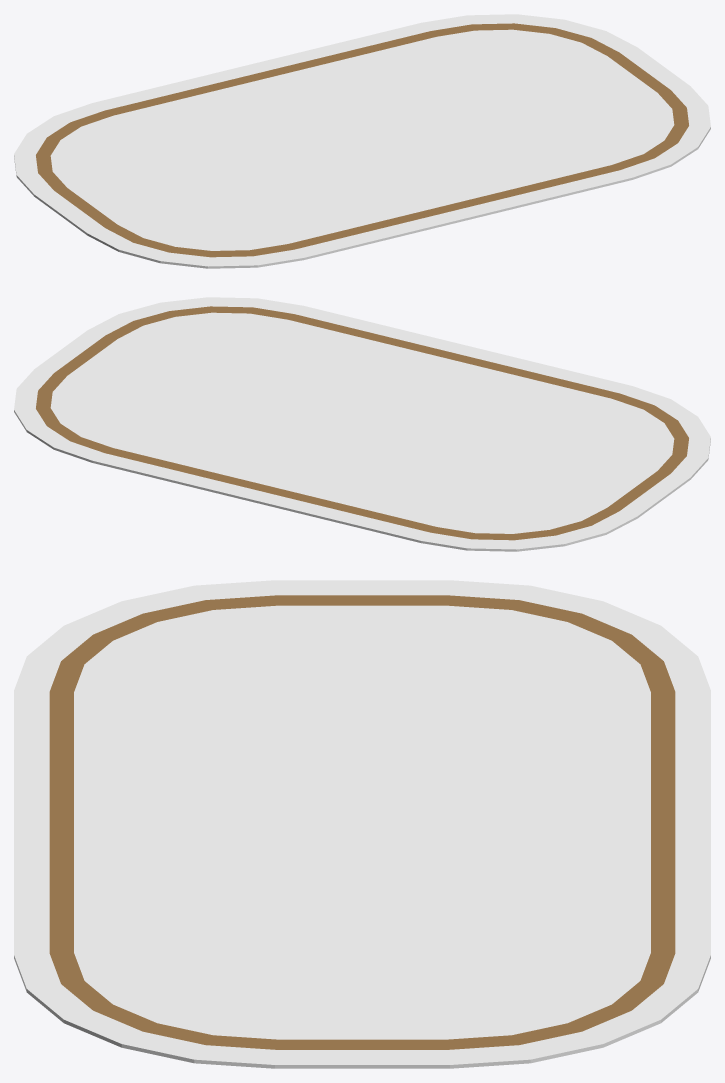
Rendered from Carpet.fbx.
3 views of the same model, one above another, from view 1: azimuth 30°, elevation 25°; view 2: azimuth 150°, elevation 25°; view 3: azimuth 270°, elevation 25° (orthographic). The views are drawn at different scales.
Parts seen in each view (by area): view 1: Carpet; view 2: Carpet; view 3: Carpet.
Part boxes in pixels (x1=…): Carpet: x1=14, y1=14, x2=710, y2=268; Carpet: x1=14, y1=297, x2=710, y2=551; Carpet: x1=14, y1=580, x2=710, y2=1068.
Size of the model in its own units: 1.82 by 0.0065 by 1.11.
